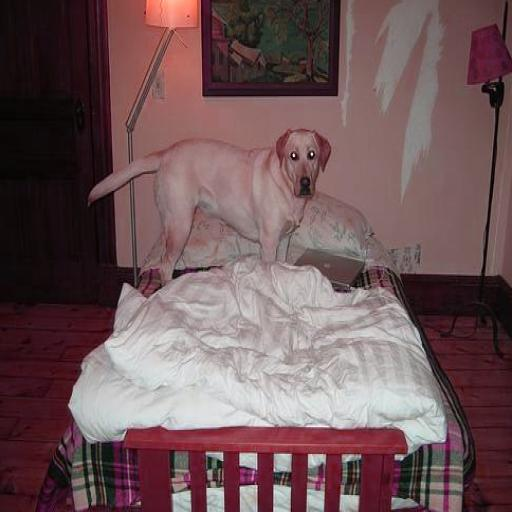dog_face: (276, 122, 333, 203)
